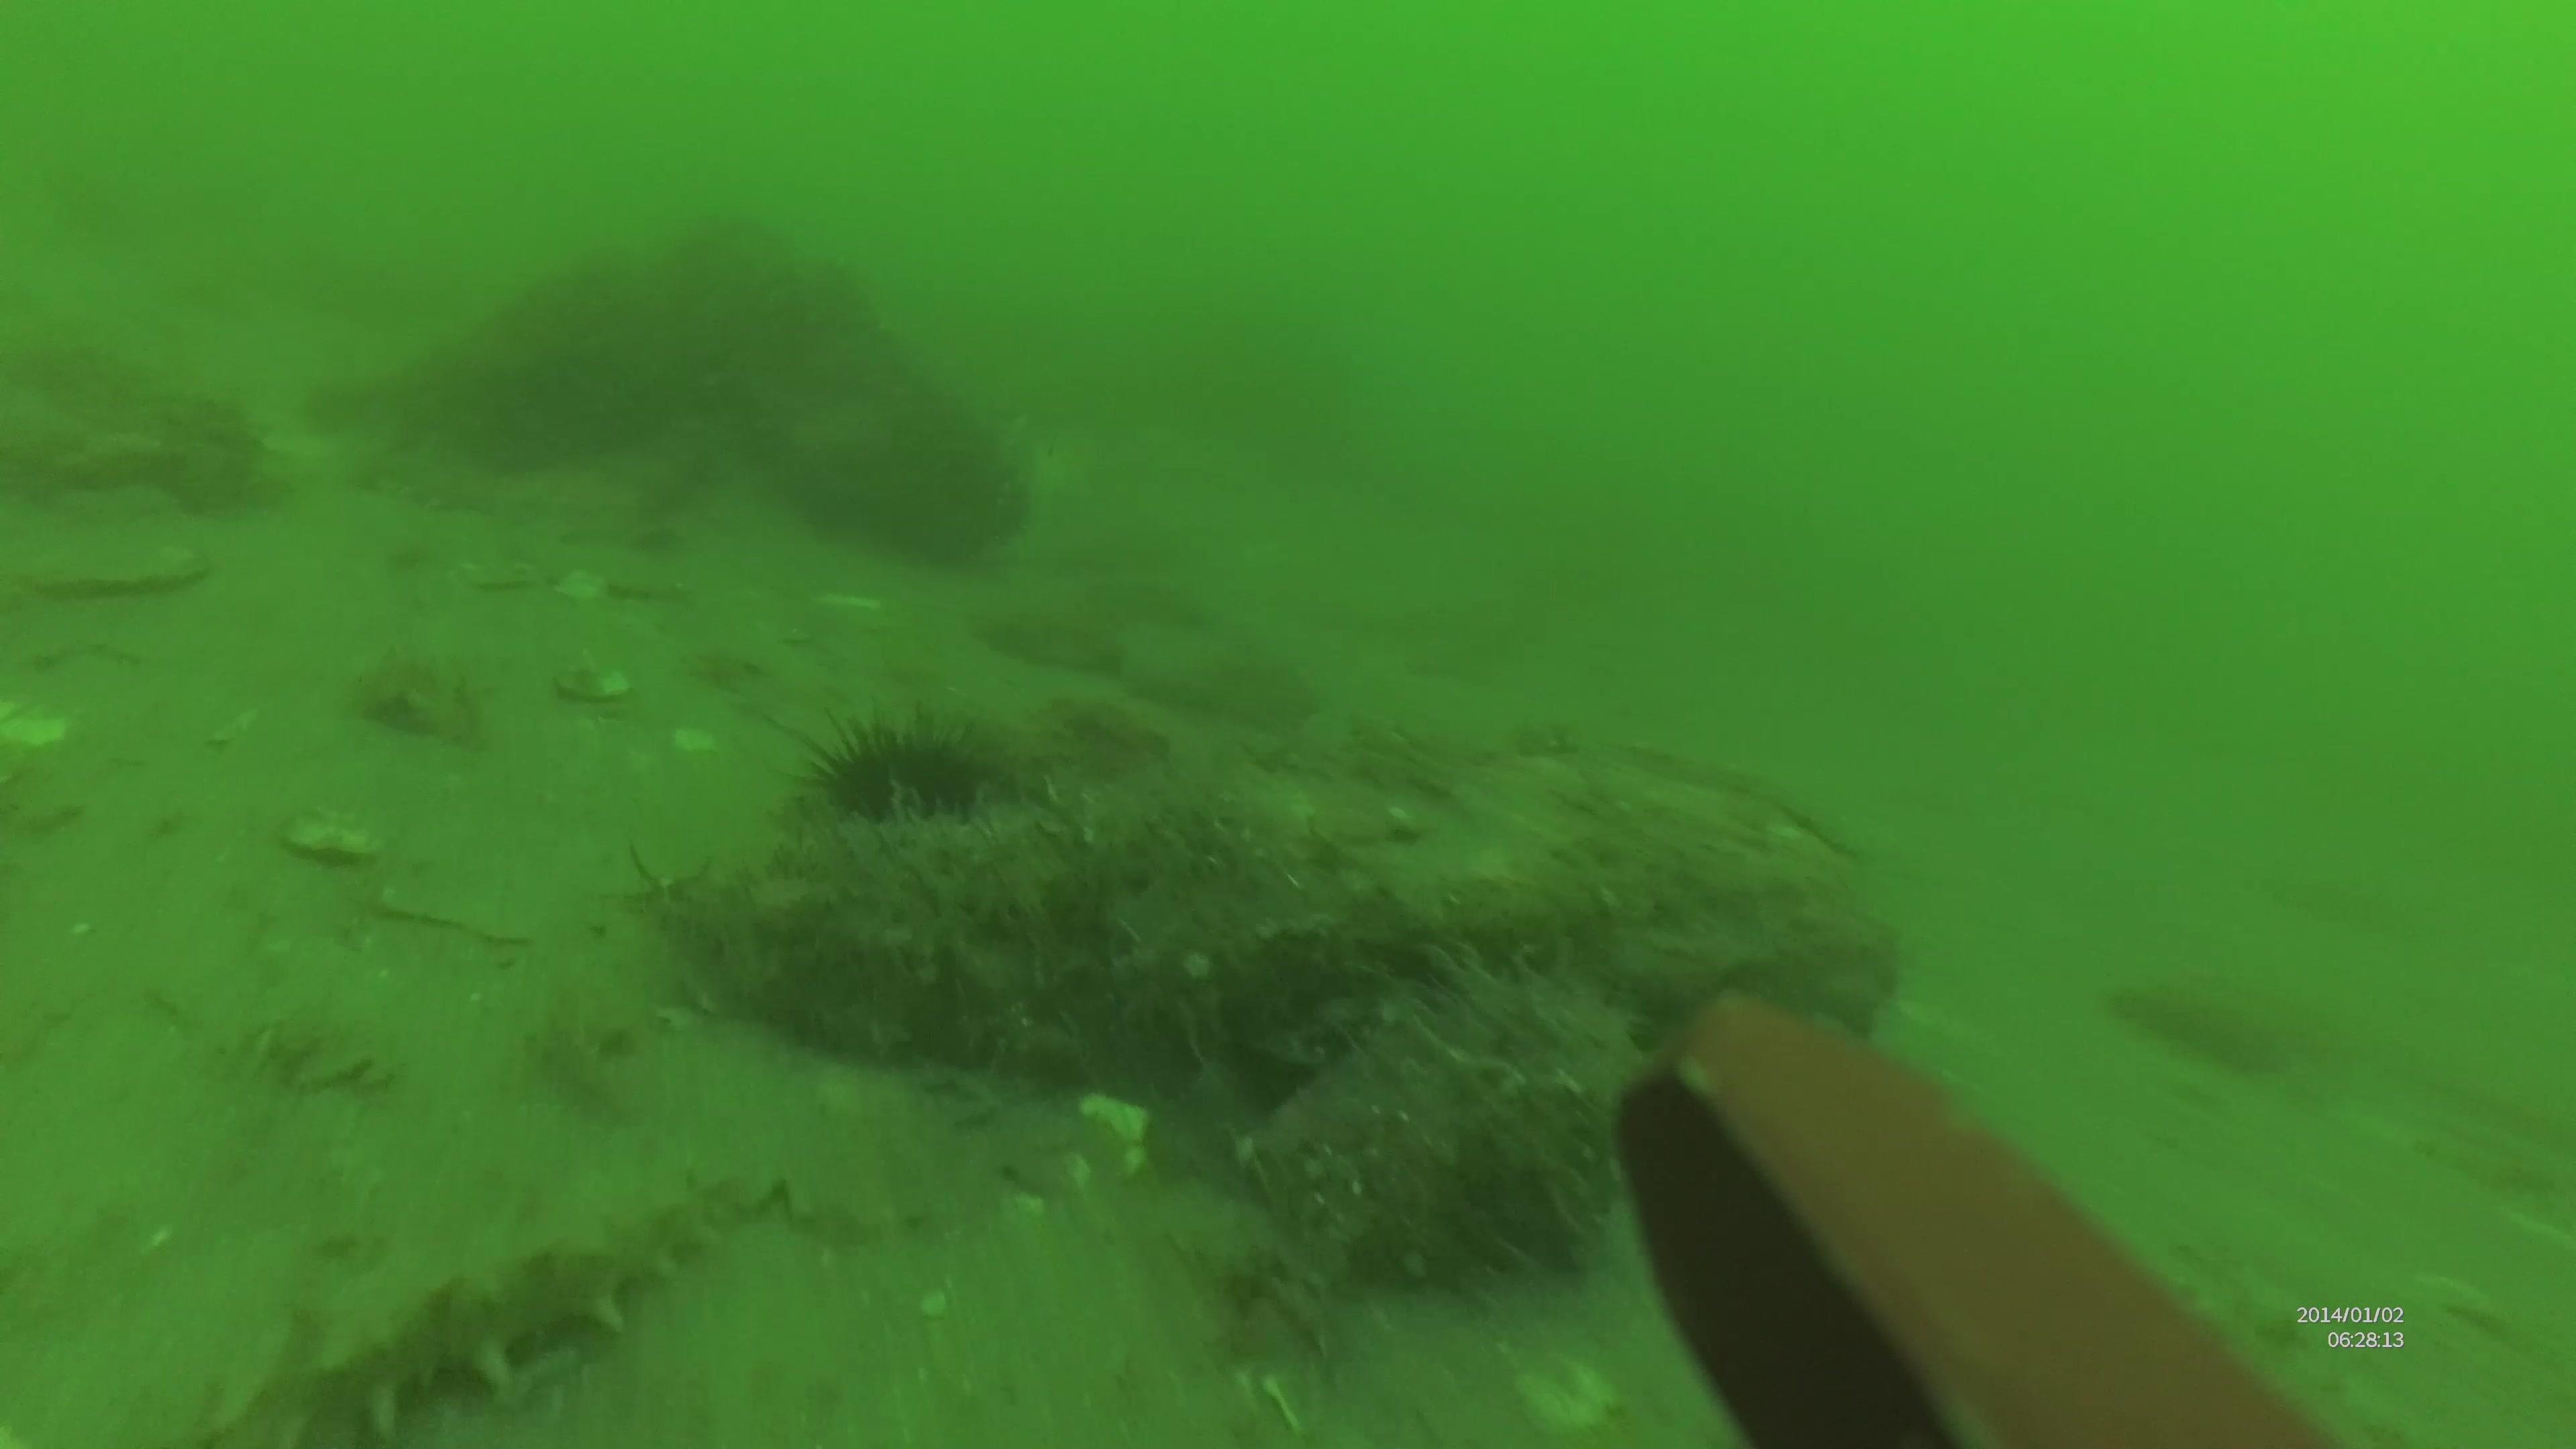echinus: (761, 701, 1040, 886)
holothurian: (205, 1145, 718, 1449)
